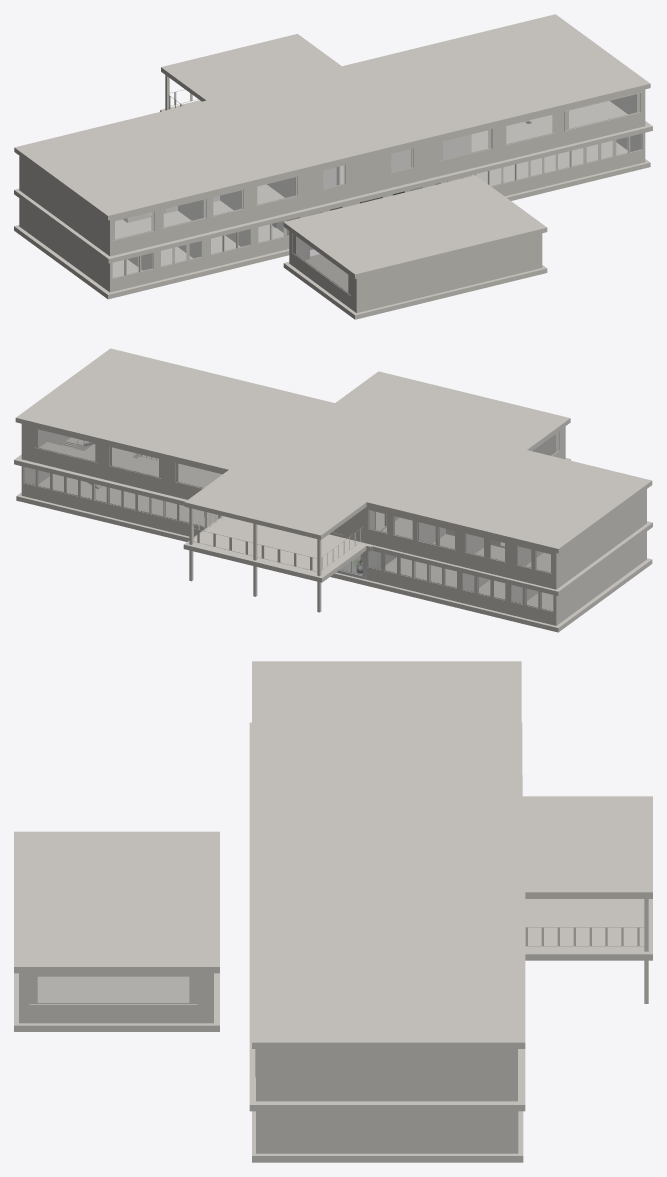
File: reception_walk.glb
3 renders of one model, top to bottom at view 1: azimuth 30°, elevation 25°; view 2: azimuth 150°, elevation 25°; view 3: azimuth 270°, elevation 25°, orthographic. The views are drawn at different scales.
Parts seen in each view (by area): view 1: BEYOND_L2_SLAB, BEYOND_L1_WALL, BEYOND_L0_WALL, BEYOND_L0_SLAB, UPPER_in_zone, BEYOND_L1_SLAB, BEYOND_L1_GLASS, BEYOND_L0_GLASS, BEYOND_L1_FRAME, BEYOND_L0_FRAME, BEYOND_L1_OTHER, BEYOND_L0_OTHER; view 2: BEYOND_L2_SLAB, BEYOND_L1_WALL, BEYOND_L1_SLAB, BEYOND_L0_WALL, UPPER_in_zone, BEYOND_L0_SLAB, BEYOND_L1_GLASS, BEYOND_L0_GLASS, BEYOND_L0_FRAME, BEYOND_L1_FRAME, BEYOND_L1_OTHER, BEYOND_L1_STAIR (+4 smaller); view 3: BEYOND_L2_SLAB, UPPER_in_zone, BEYOND_L0_WALL, BEYOND_L1_WALL, BEYOND_L1_SLAB, BEYOND_L0_SLAB, BEYOND_L0_GLASS, BEYOND_L0_FRAME.
Boxes of the visible parts, box(x1,y1,x2,y2) form: BEYOND_L2_SLAB: box(14, 14, 650, 278); BEYOND_L1_WALL: box(19, 89, 645, 256); BEYOND_L0_WALL: box(19, 133, 645, 313); BEYOND_L0_SLAB: box(14, 122, 650, 319); UPPER_in_zone: box(209, 68, 408, 191); BEYOND_L1_SLAB: box(14, 100, 652, 263); BEYOND_L1_GLASS: box(115, 94, 636, 238); BEYOND_L0_GLASS: box(113, 134, 641, 291); BEYOND_L1_FRAME: box(113, 93, 640, 240); BEYOND_L0_FRAME: box(112, 134, 642, 295); BEYOND_L1_OTHER: box(112, 89, 641, 240); BEYOND_L0_OTHER: box(124, 133, 642, 295); BEYOND_L2_SLAB: box(15, 348, 652, 553); BEYOND_L1_WALL: box(21, 424, 646, 589); BEYOND_L1_SLAB: box(14, 442, 652, 596); BEYOND_L0_WALL: box(21, 426, 646, 625); UPPER_in_zone: box(232, 420, 431, 543); BEYOND_L0_SLAB: box(16, 444, 652, 632); BEYOND_L1_GLASS: box(38, 429, 550, 572); BEYOND_L0_GLASS: box(24, 434, 555, 610); BEYOND_L0_FRAME: box(23, 431, 558, 611); BEYOND_L1_FRAME: box(34, 428, 551, 573); BEYOND_L1_OTHER: box(34, 428, 551, 573); BEYOND_L1_STAIR: box(136, 454, 500, 570); BEYOND_L2_SLAB: box(14, 661, 652, 1048); UPPER_in_zone: box(328, 797, 519, 891); BEYOND_L0_WALL: box(19, 973, 518, 1153); BEYOND_L1_WALL: box(256, 1049, 517, 1101); BEYOND_L1_SLAB: box(249, 722, 652, 1111); BEYOND_L0_SLAB: box(14, 775, 523, 1162); BEYOND_L0_GLASS: box(38, 977, 188, 1002); BEYOND_L0_FRAME: box(29, 976, 197, 1003).
Size of the model in its own units: 38.22 by 5.6 by 27.
15 materials, 11 textured.
